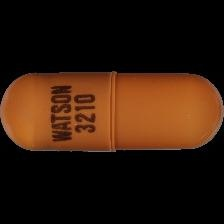0591-3210: (0, 0, 224, 224)
